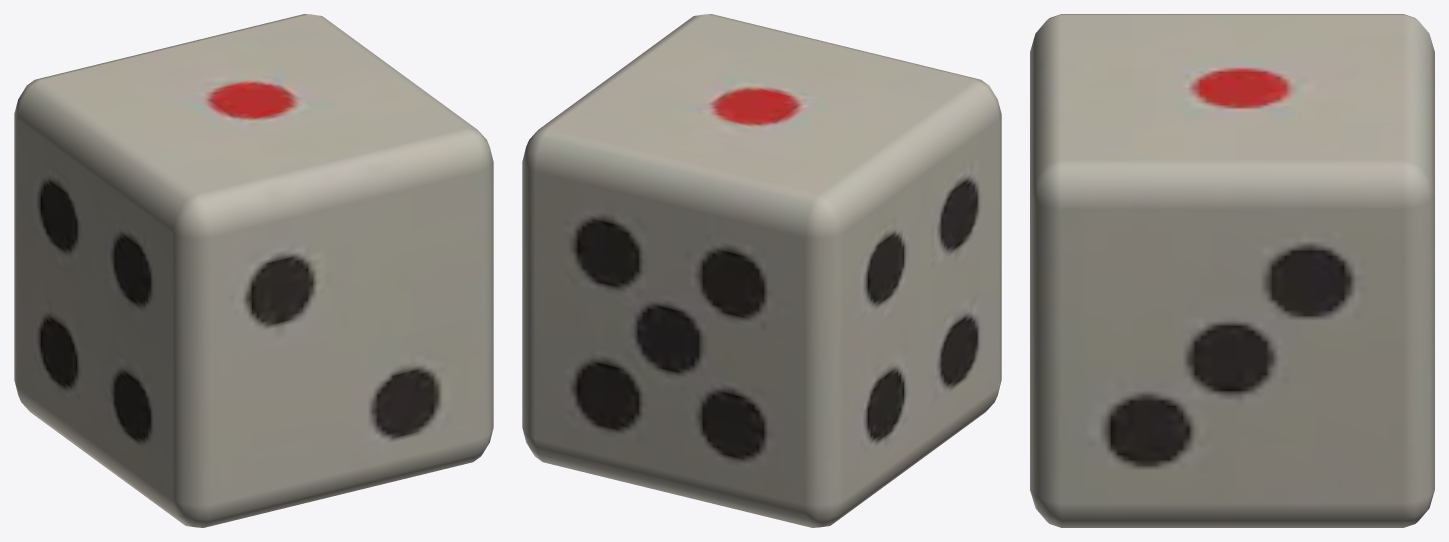
The picture shows the model from 3 angles, left to right: view 1: azimuth 30°, elevation 25°; view 2: azimuth 150°, elevation 25°; view 3: azimuth 270°, elevation 25°; orthographic projection. The views are drawn at different scales.
Bounding box in the file's own units: 3.55 × 3.55 × 3.55.
Materials: 1 (1 with a texture image).
